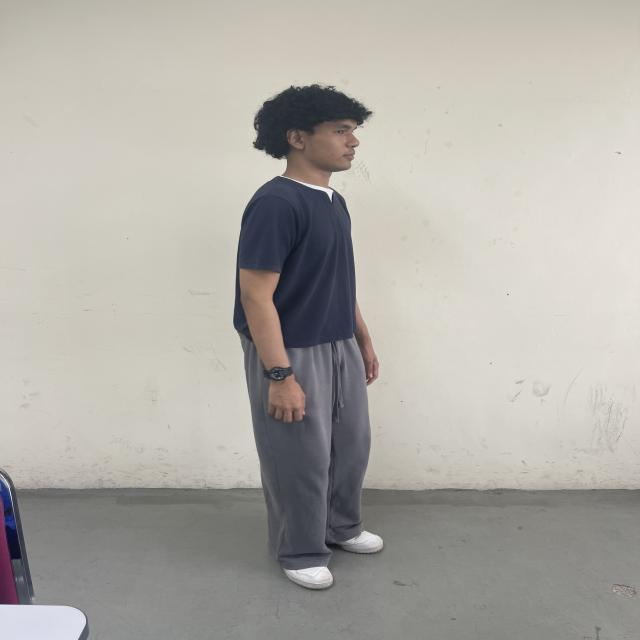person_without_labcoat: (234, 85, 383, 590)
